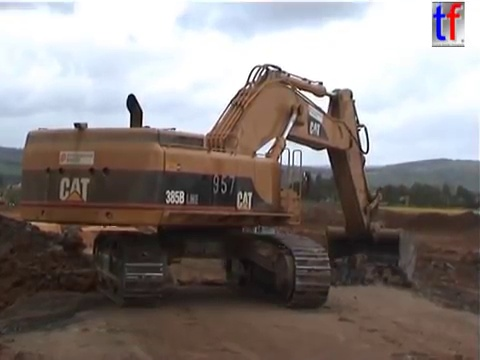excavator: (15, 59, 422, 311)
truck: (1, 215, 140, 318), (72, 222, 163, 295)
